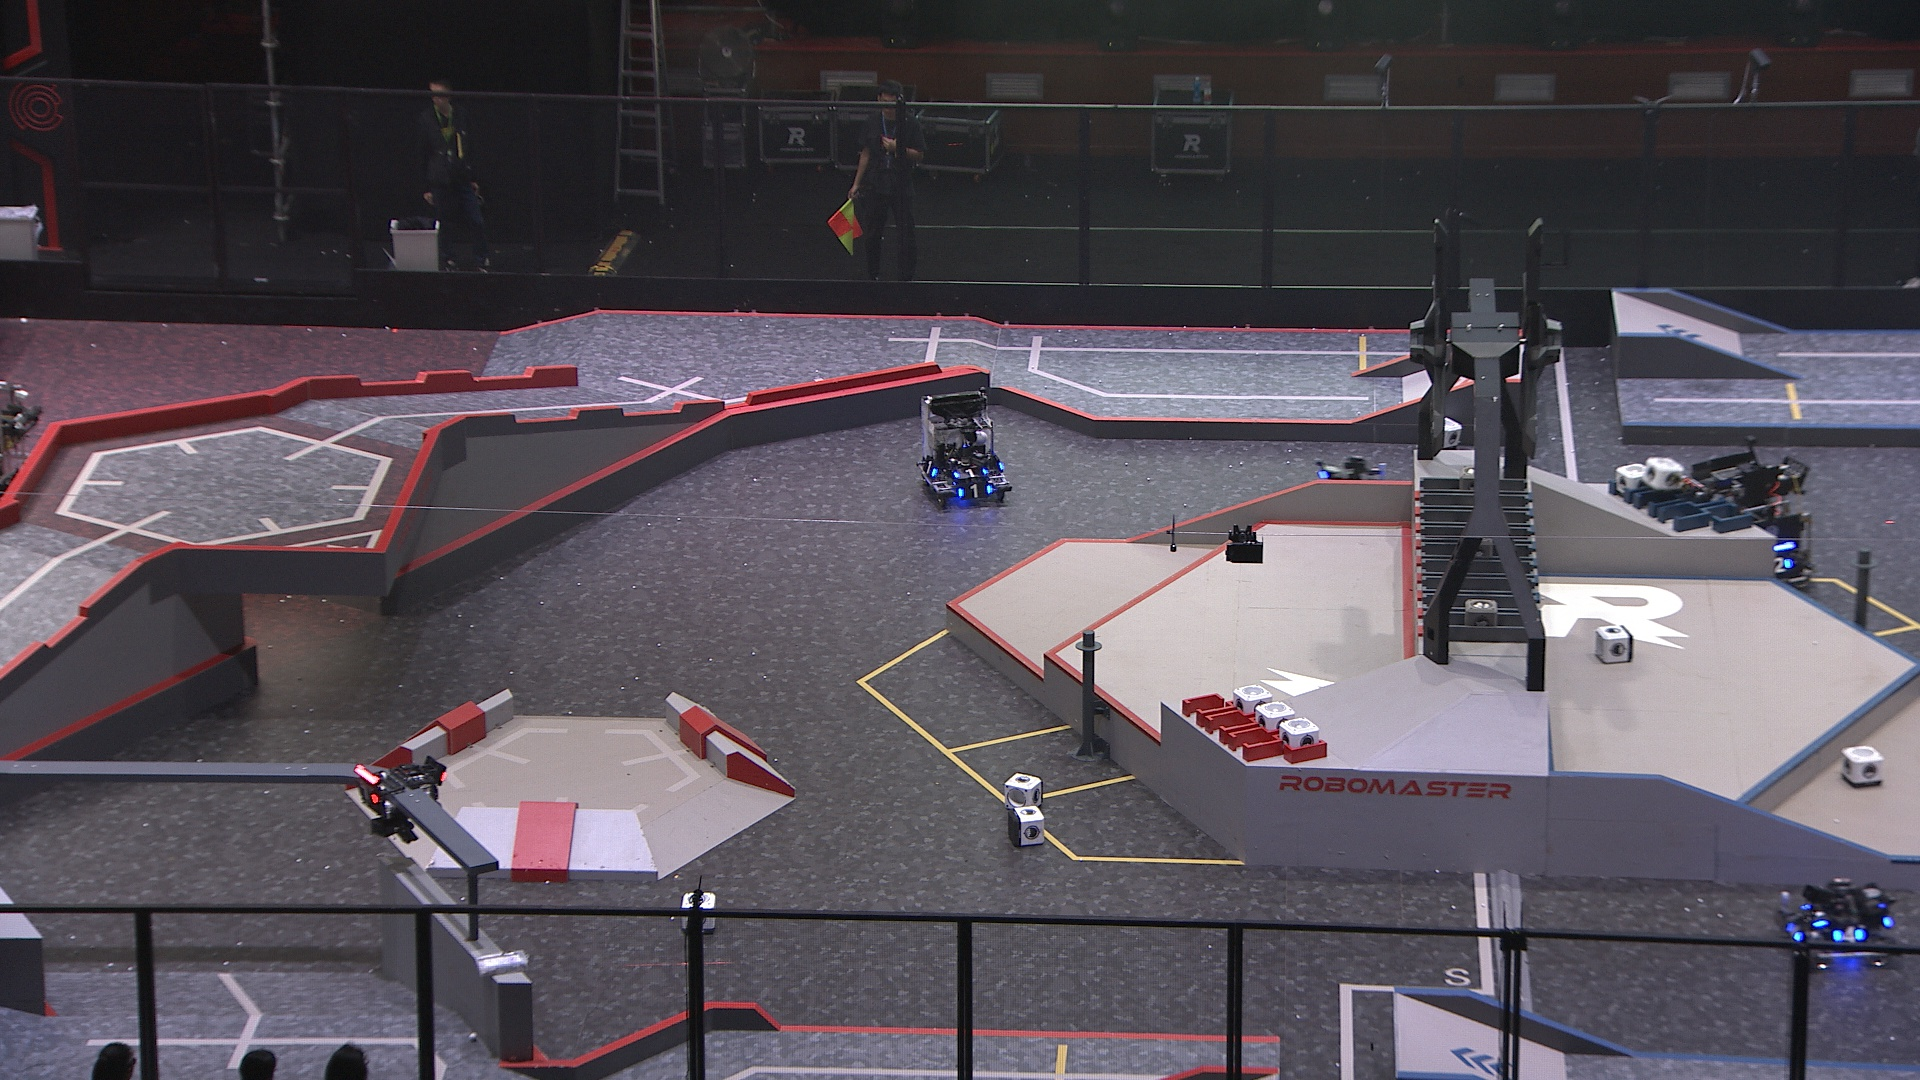armor: (353, 782, 384, 818), (1799, 901, 1830, 934), (955, 479, 996, 500), (949, 462, 993, 481), (1832, 924, 1866, 949), (1768, 551, 1795, 576), (1782, 918, 1803, 943), (920, 458, 940, 479)
car: (1677, 451, 1812, 593), (1776, 872, 1896, 975), (913, 384, 1011, 508), (1305, 456, 1390, 524)
watcher: (348, 756, 447, 849)
